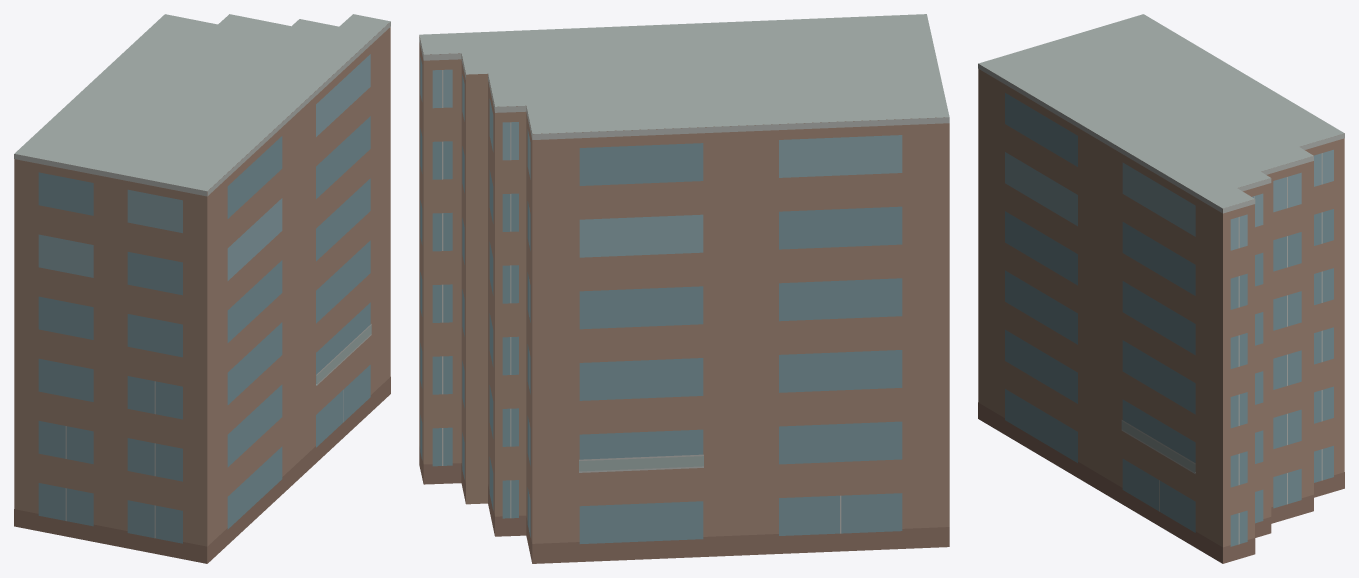
File: survey-upis-32613175.glb
The picture shows the model from 3 angles, left to right: view 1: azimuth 30°, elevation 25°; view 2: azimuth 150°, elevation 25°; view 3: azimuth 270°, elevation 25°; orthographic projection. The views are drawn at different scales.
Parts seen in each view (by area): view 1: survey-upis-32613175.tmp; view 2: survey-upis-32613175.tmp; view 3: survey-upis-32613175.tmp.
Part boxes in pixels (<box>): survey-upis-32613175.tmp: <box>14,14,390,563</box>; survey-upis-32613175.tmp: <box>419,14,949,563</box>; survey-upis-32613175.tmp: <box>978,14,1344,563</box>.
Size of the model in its own units: 20.45 by 17.4 by 16.28.
